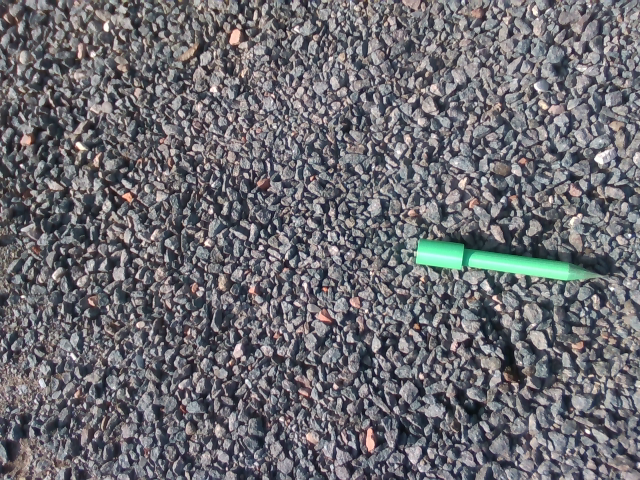Probe: (413, 236, 617, 288)
